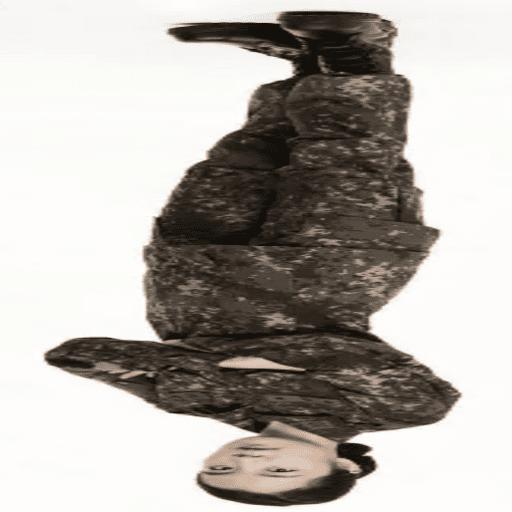korea army: (43, 9, 462, 503)
